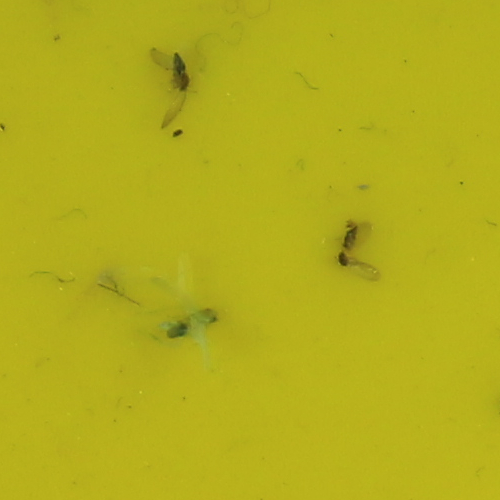psylla: (164, 303, 226, 346), (169, 50, 189, 94)
